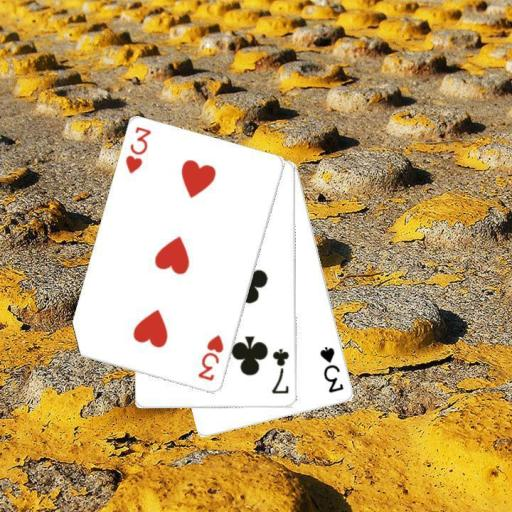card-corner: (122, 124, 153, 176), (195, 332, 225, 383), (317, 344, 346, 394), (269, 346, 291, 396)
